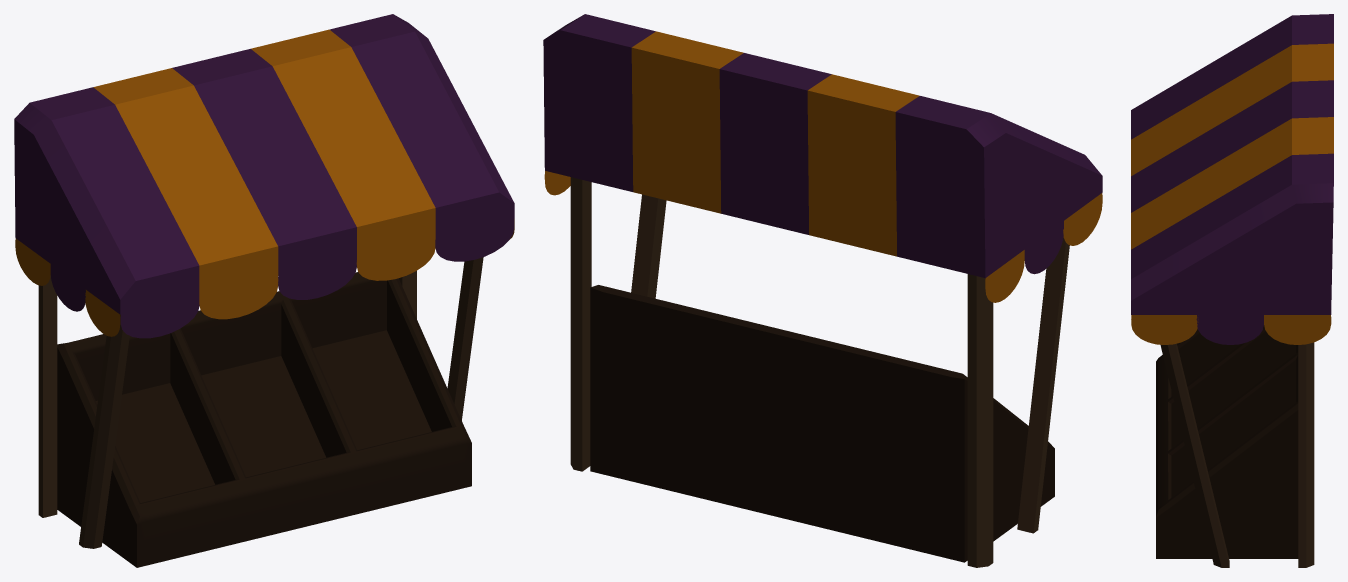
The model's file is Fish kiosk v2.fbx.
The picture shows the model from 3 angles, left to right: view 1: azimuth 30°, elevation 25°; view 2: azimuth 150°, elevation 25°; view 3: azimuth 270°, elevation 25°; orthographic projection. The views are drawn at different scales.
Parts seen in each view (by area): view 1: Fish_kiosk; view 2: Fish_kiosk; view 3: Fish_kiosk.
Part boxes in pixels (left/top/right/bottom): Fish_kiosk: left=14, top=14, right=514, bottom=567; Fish_kiosk: left=543, top=14, right=1102, bottom=567; Fish_kiosk: left=1131, top=14, right=1333, bottom=567.
Bounding box in the file's own units: 19.7 × 19.11 × 9.19.
